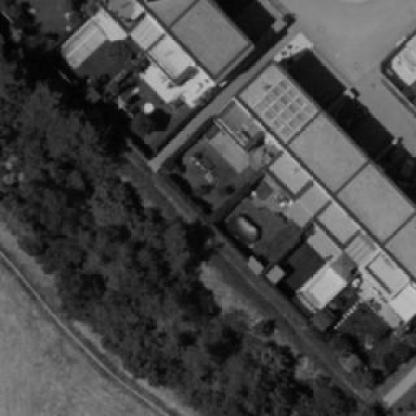solar-pv-panel: (255, 76, 315, 137)
